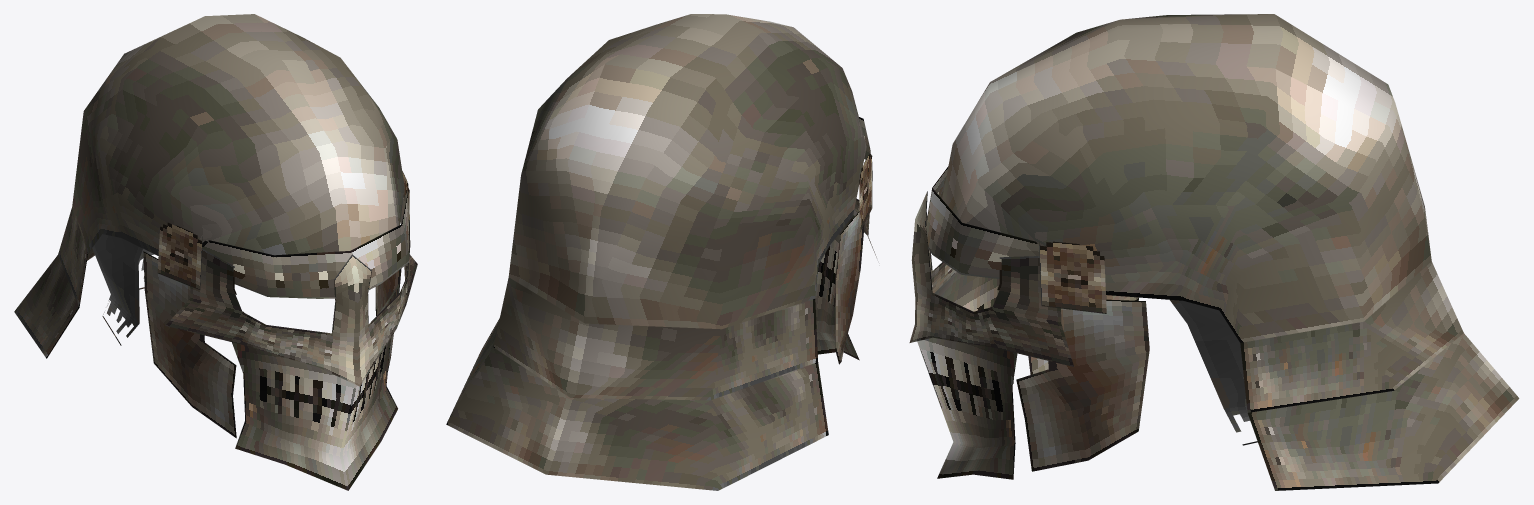
The picture shows the model from 3 angles, left to right: view 1: azimuth 30°, elevation 25°; view 2: azimuth 150°, elevation 25°; view 3: azimuth 270°, elevation 25°; orthographic projection. The views are drawn at different scales.
Parts seen in each view (by area): view 1: mesh00; view 2: mesh00; view 3: mesh00.
Part boxes in pixels (x1,y1,x2,y2): mesh00: (14, 14, 417, 490); mesh00: (446, 14, 876, 490); mesh00: (909, 14, 1519, 490).
Bounding box in the file's own units: 21.41 × 23.6 × 29.07.
